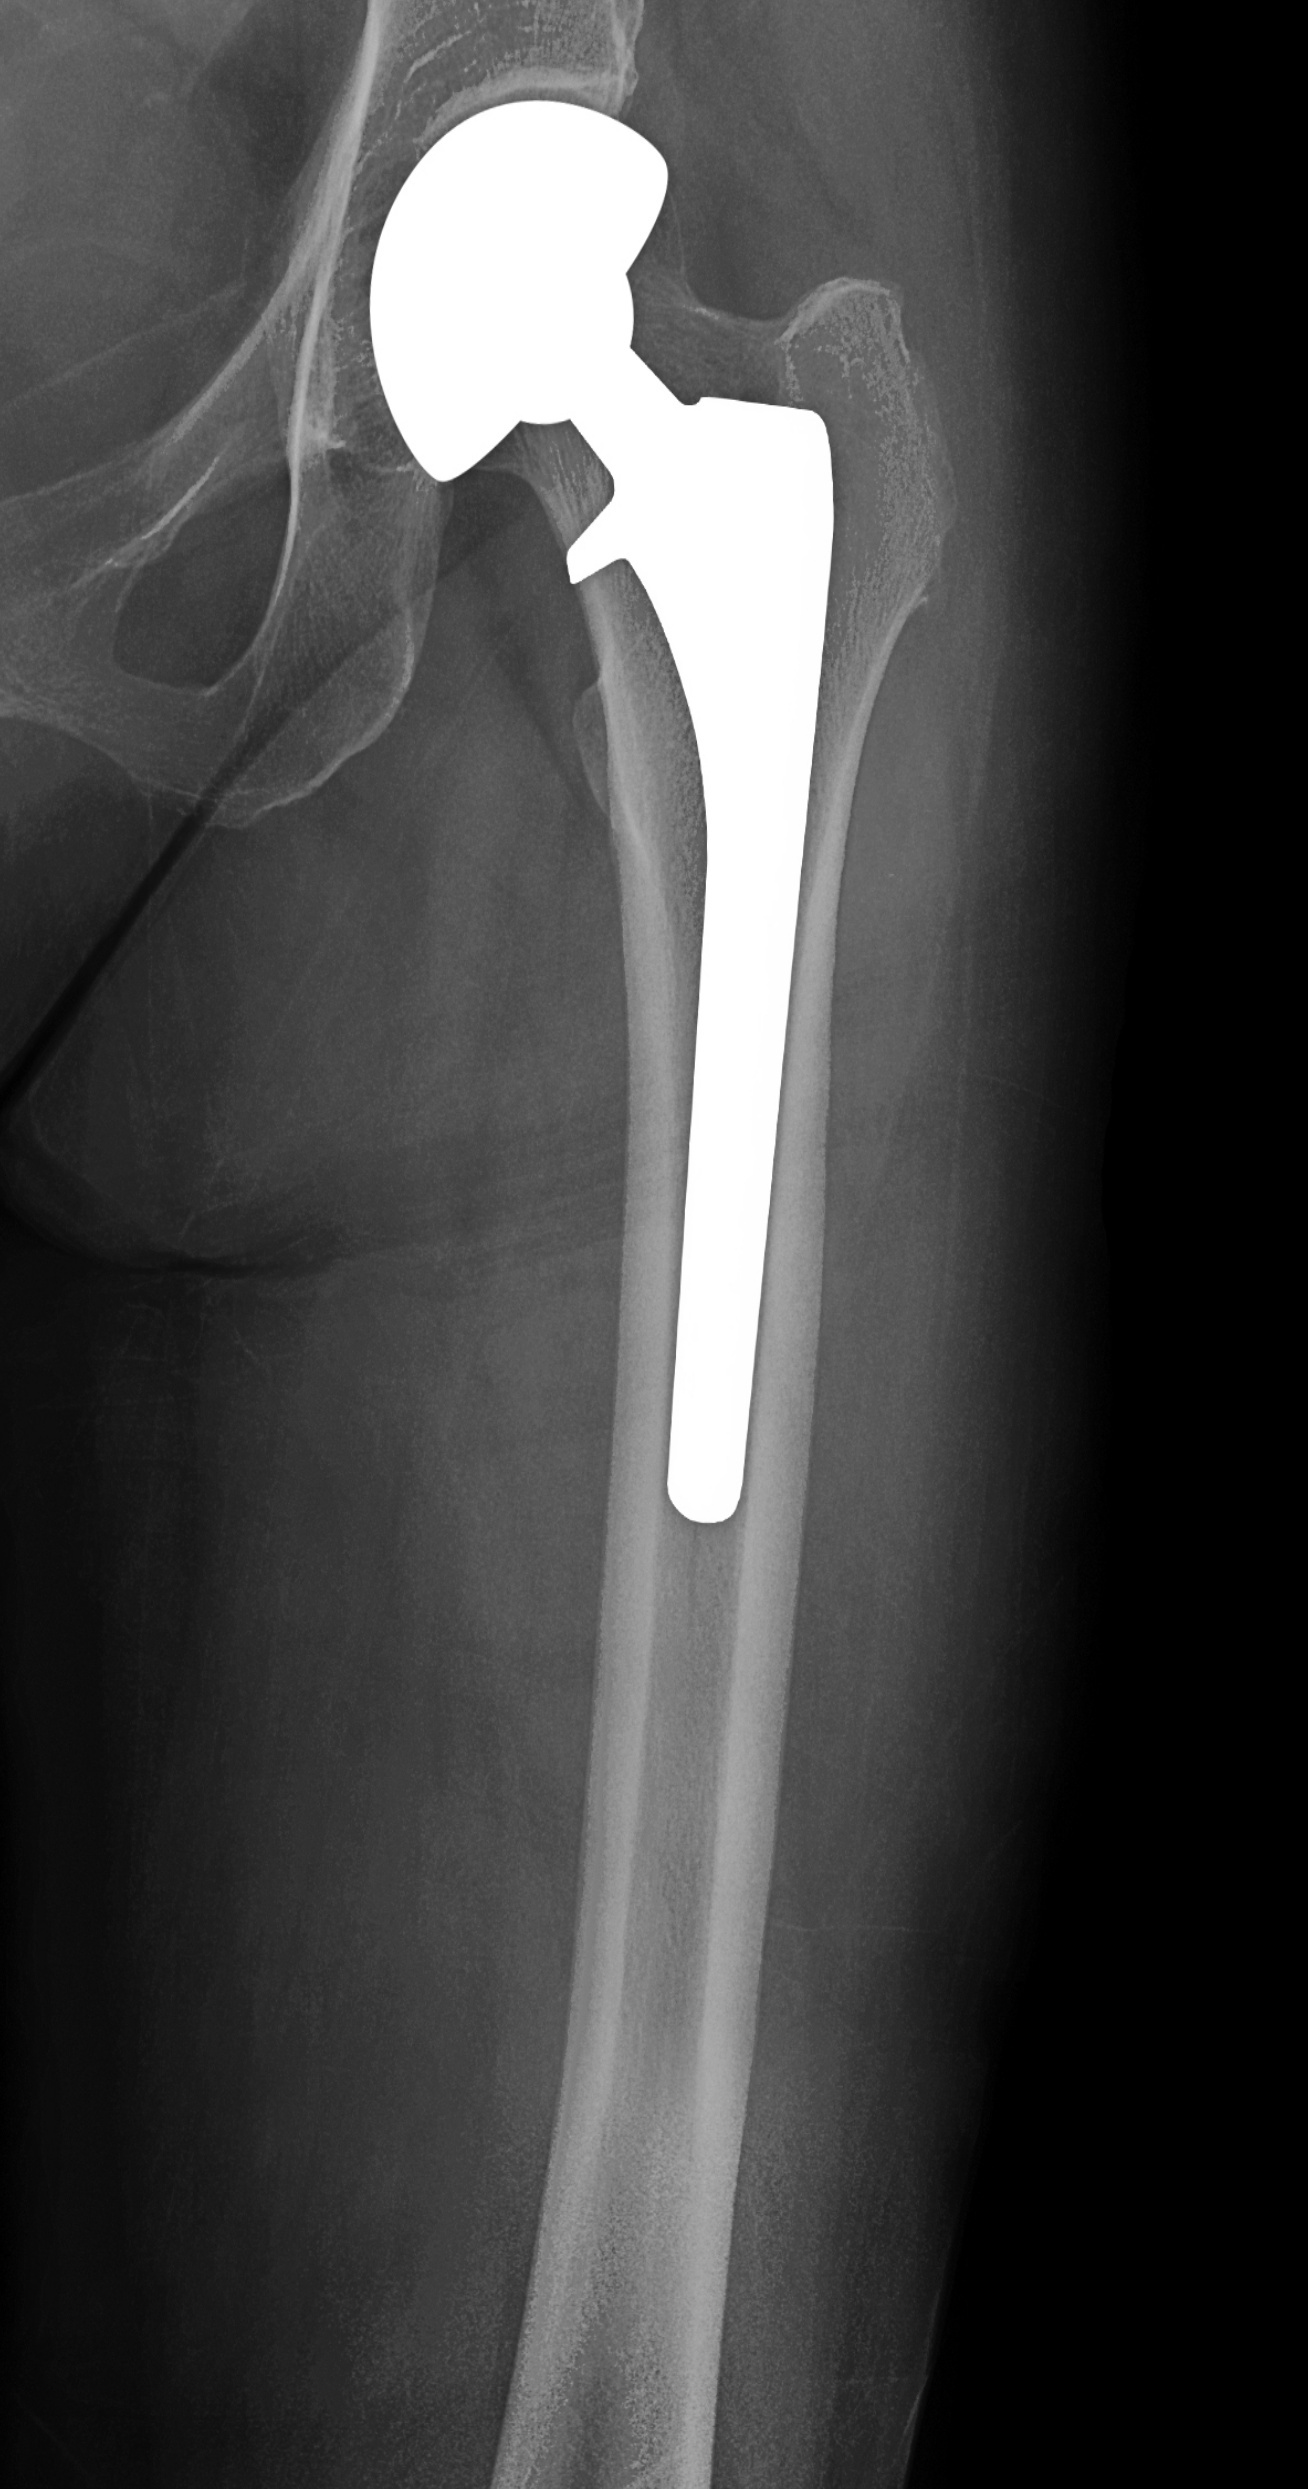Hip - APR - Zimmer: (355, 92, 857, 1582)
